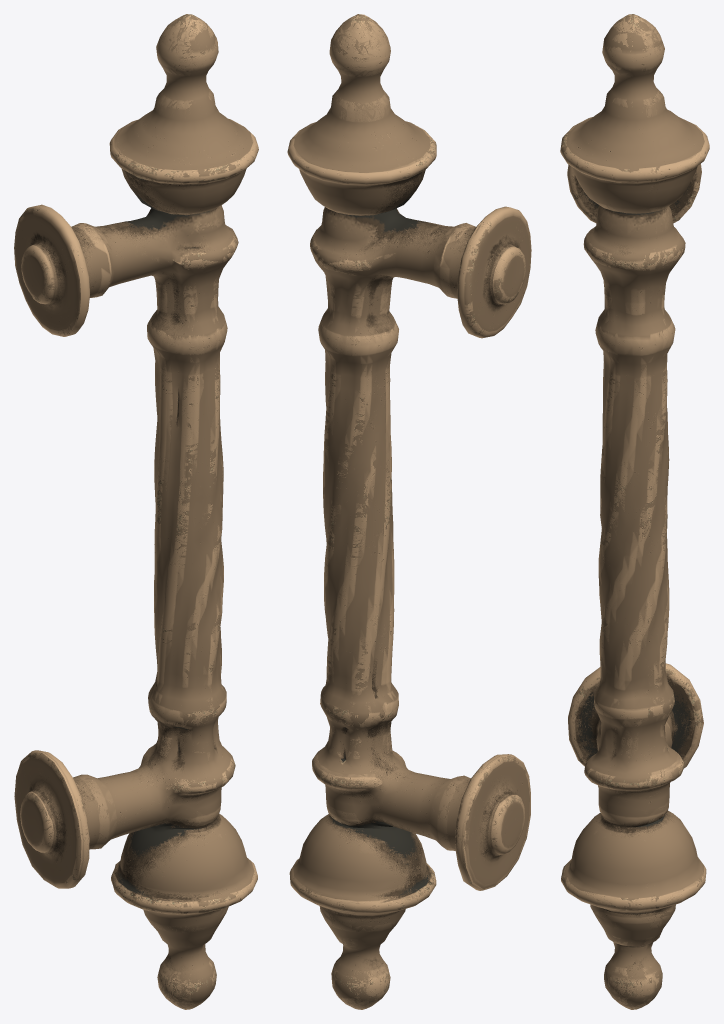
File: door_handel.glb
The picture shows the model from 3 angles, left to right: view 1: azimuth 30°, elevation 25°; view 2: azimuth 150°, elevation 25°; view 3: azimuth 270°, elevation 25°; orthographic projection.
Visible parts, largest first — view 1: 01_Material_0; view 2: 01_Material_0; view 3: 01_Material_0.
Part boxes in pixels (x1,y1,x2,y2): 01_Material_0: (14, 14, 258, 1009); 01_Material_0: (287, 14, 531, 1009); 01_Material_0: (560, 14, 709, 1009).
Size of the model in its own units: 0.2504 by 1.1 by 0.1505.
Materials: 1 (1 with a texture image).
